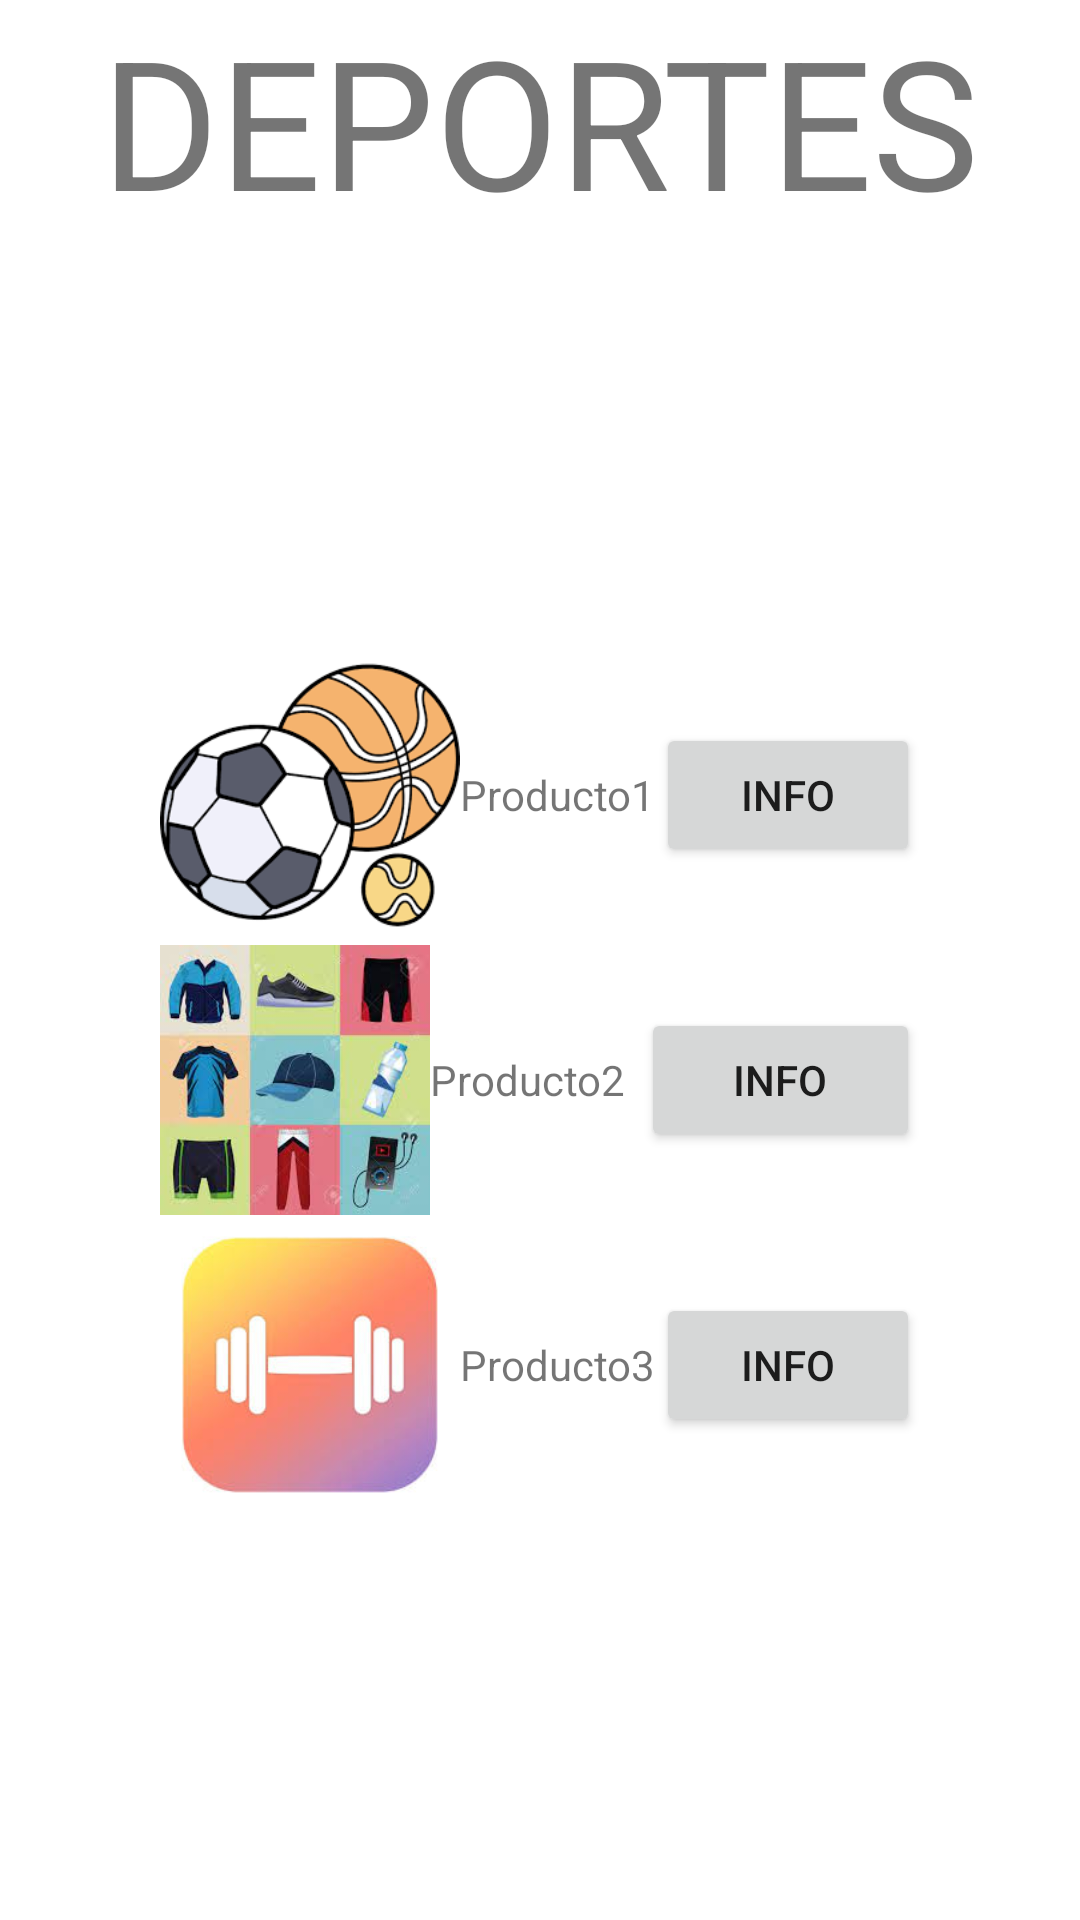

Where to tap for icons on this 1080w x 1920h app screen, as [x,y]:
balones: [310,795]
gym: [310,1365]
vestuario: [295,1080]
